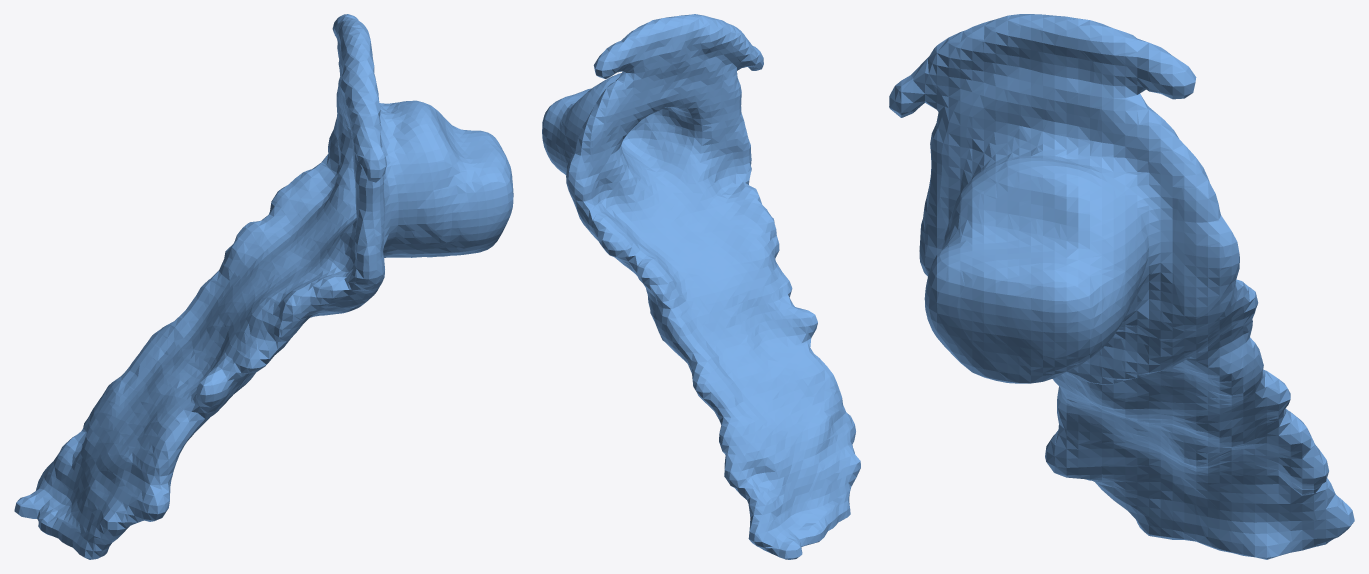
The model's file is water_0032.glb.
3 renders of one model, left to right at view 1: azimuth 30°, elevation 25°; view 2: azimuth 150°, elevation 25°; view 3: azimuth 270°, elevation 25°, orthographic. The views are drawn at different scales.
Parts seen in each view (by area): view 1: Water_0032; view 2: Water_0032; view 3: Water_0032.
Boxes of the visible parts, bbox=[...] form: Water_0032: bbox=[14, 14, 513, 559]; Water_0032: bbox=[542, 14, 860, 559]; Water_0032: bbox=[889, 14, 1354, 559].
Size of the model in its own units: 3 by 3.67 by 2.3.
